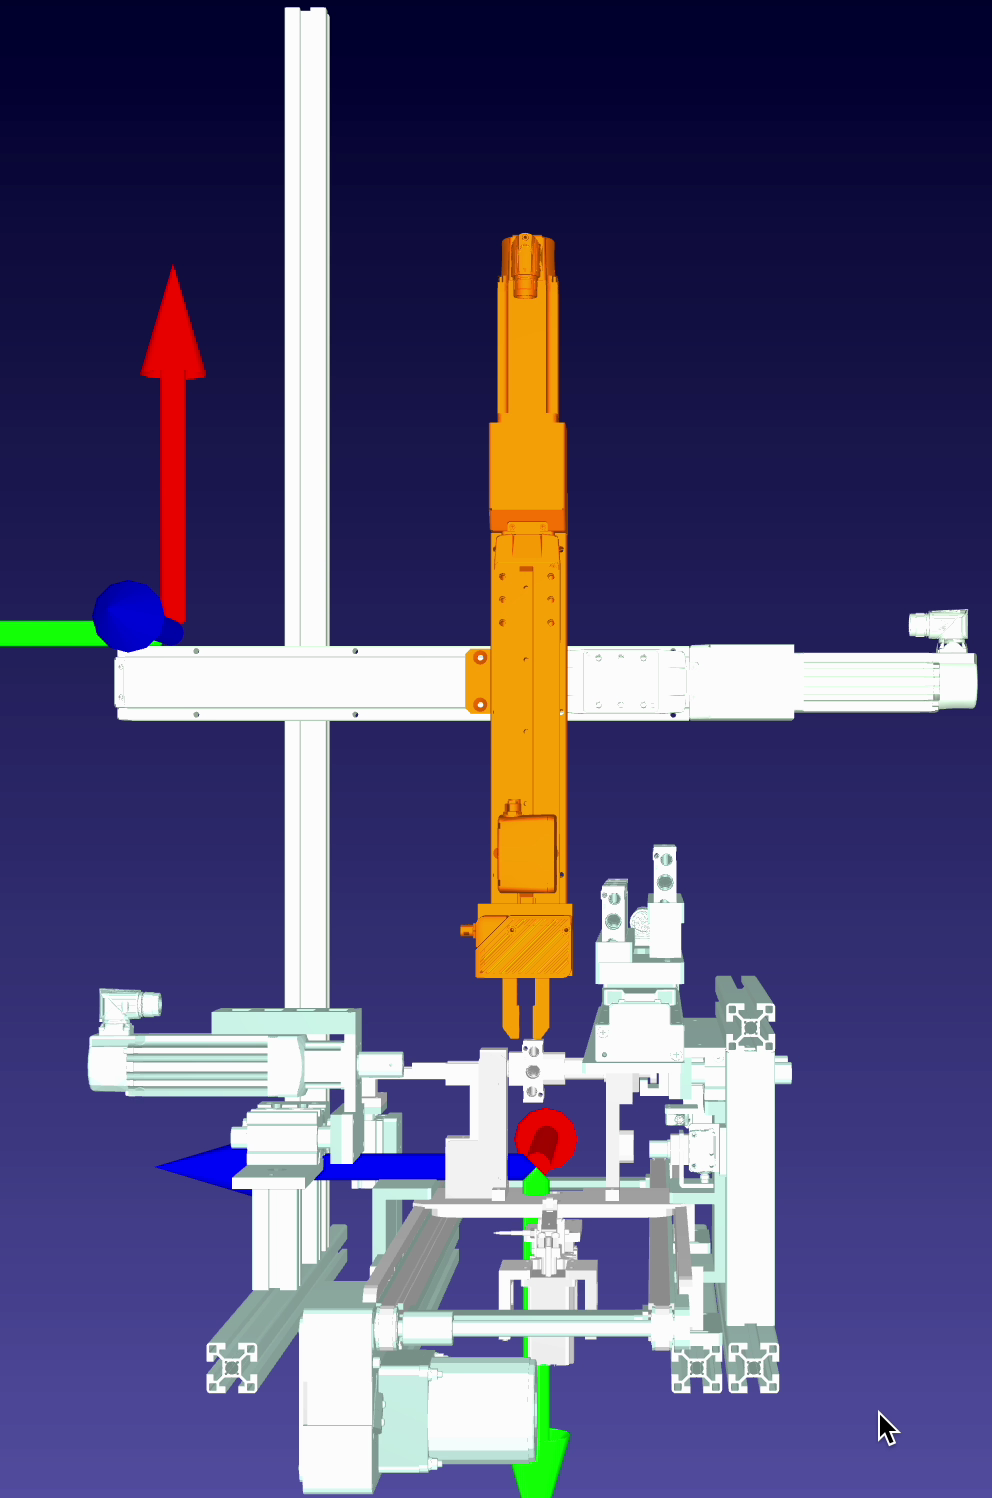Gripper: (462, 893, 583, 1044)
